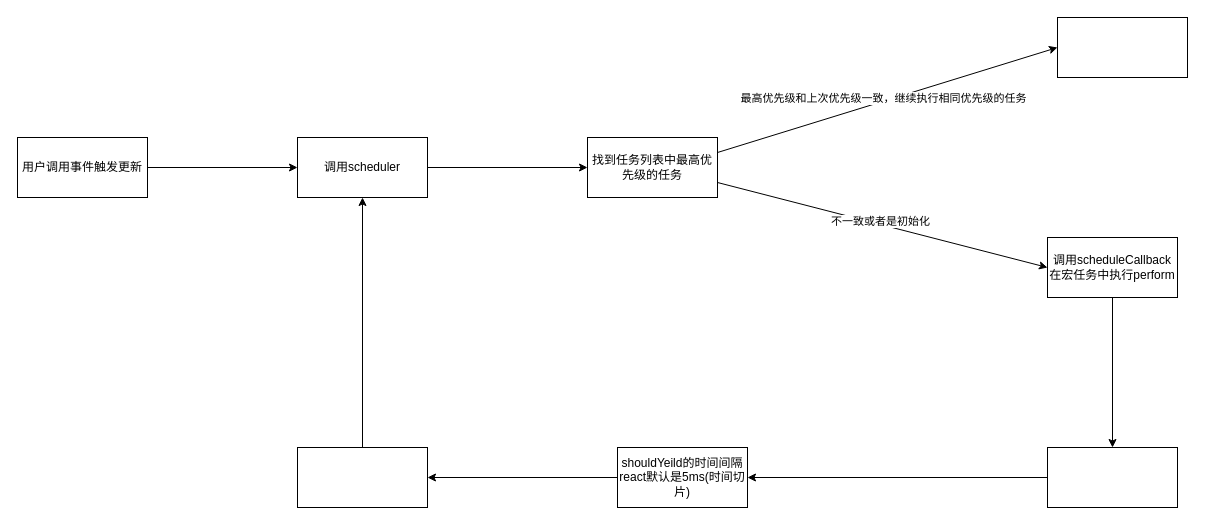
The diagram is 1205 pixels wide and 525 high, and some of its shapes have lost their labels. Here are the shapes that lost their labels. From the top down, the centre of each, then its label:
point (1122, 47): 直接调用perform
point (362, 477): 执行5ms任务之后，退出循环
point (1112, 477): 通过while循环去执行任务，也就是Fiber树的构建，while循环的退出条件是shouldYeild
